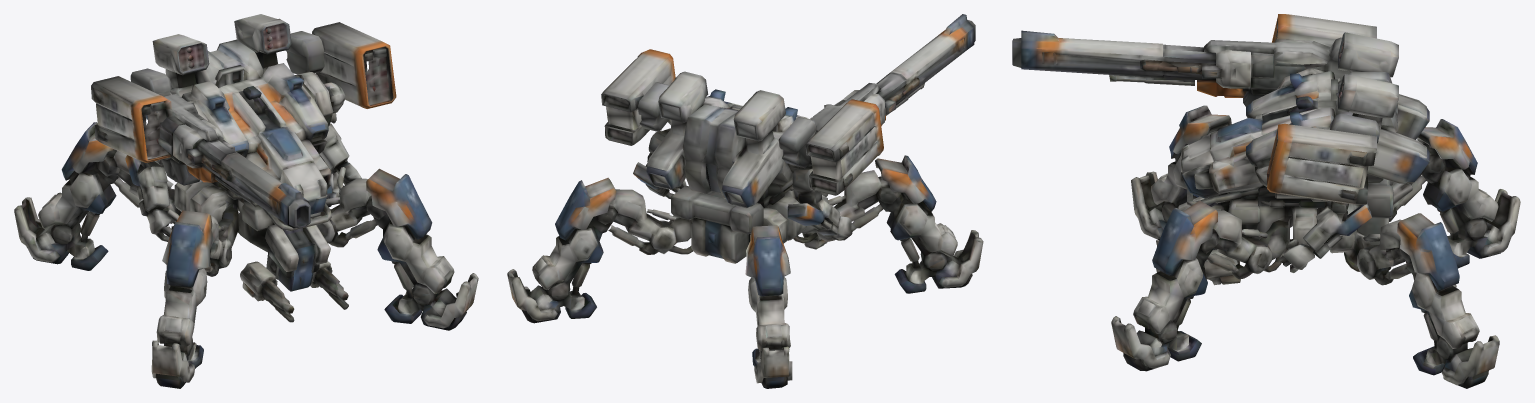
Rendered from mech-white.glb.
3 views of the same model, side by side, from view 1: azimuth 30°, elevation 25°; view 2: azimuth 150°, elevation 25°; view 3: azimuth 270°, elevation 25° (orthographic). The views are drawn at different scales.
Parts seen in each view (by area): view 1: tripo_node_5fb66b04-b3c0-469c-975e-a6760c72746b; view 2: tripo_node_5fb66b04-b3c0-469c-975e-a6760c72746b; view 3: tripo_node_5fb66b04-b3c0-469c-975e-a6760c72746b.
Boxes of the visible parts, x1=… form: tripo_node_5fb66b04-b3c0-469c-975e-a6760c72746b: x1=14, y1=14, x2=478, y2=388; tripo_node_5fb66b04-b3c0-469c-975e-a6760c72746b: x1=507, y1=14, x2=983, y2=388; tripo_node_5fb66b04-b3c0-469c-975e-a6760c72746b: x1=1012, y1=14, x2=1520, y2=388.
Size of the model in its own units: 0.7918 by 0.5311 by 0.9759.
Materials: 1 (1 with a texture image).
